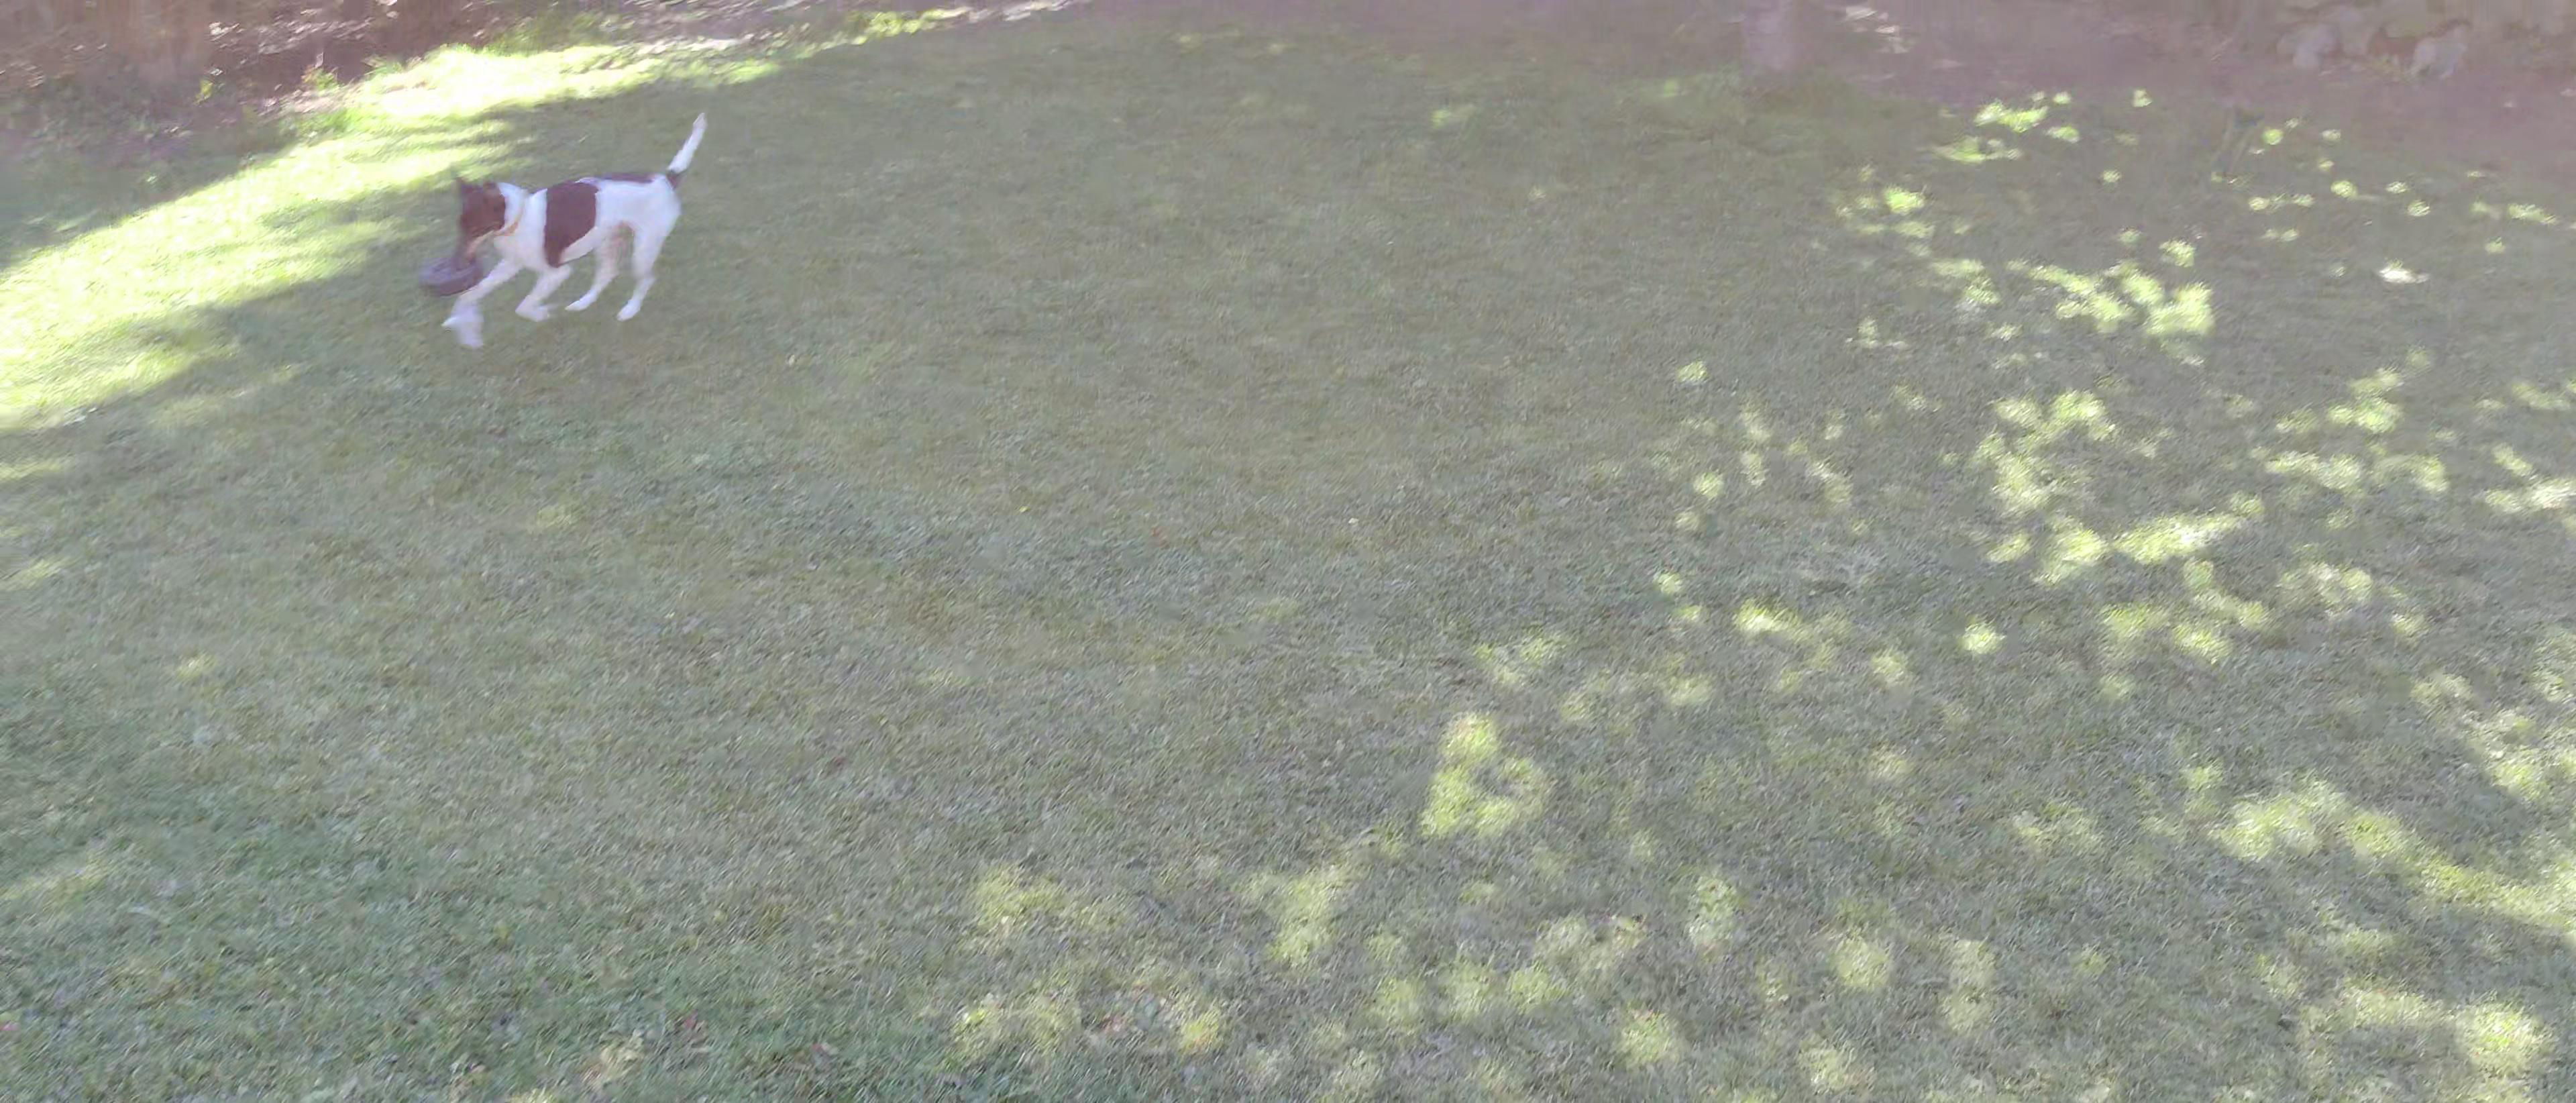Dog: (435, 107, 716, 335)
